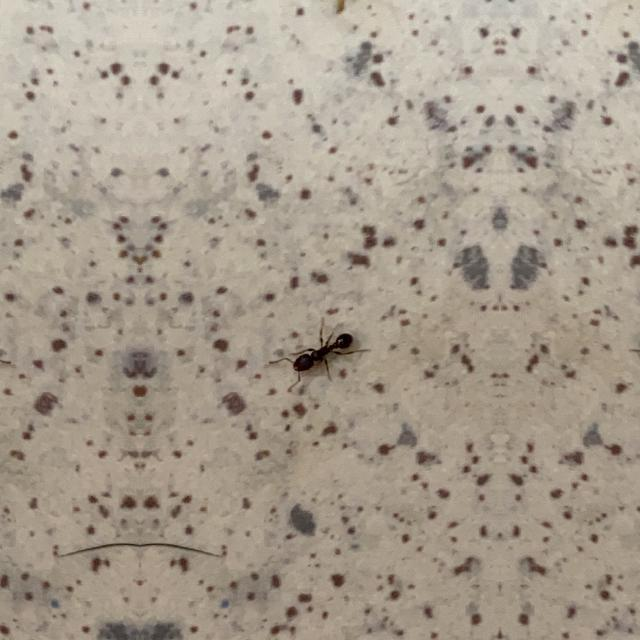Tetramorium: (268, 304, 369, 388)
